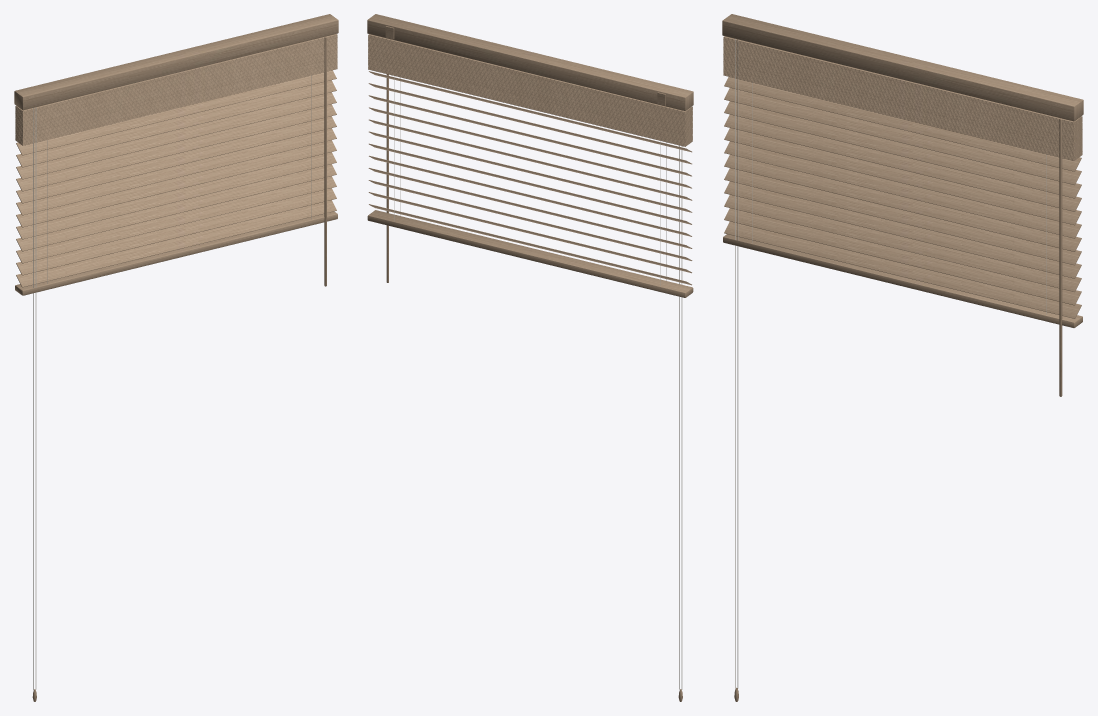
Rendered from veneciana_madera_220_c25.glb.
The picture shows the model from 3 angles, left to right: view 1: azimuth 30°, elevation 25°; view 2: azimuth 150°, elevation 25°; view 3: azimuth 330°, elevation 25°; orthographic projection. The views are drawn at different scales.
Parts seen in each view (by area): view 1: veneciana_madera_220_c25; view 2: veneciana_madera_220_c25; view 3: veneciana_madera_220_c25.
Part boxes in pixels (<box>): veneciana_madera_220_c25: <box>14,14,338,701</box>; veneciana_madera_220_c25: <box>367,14,693,701</box>; veneciana_madera_220_c25: <box>722,14,1083,701</box>.
Size of the model in its own units: 1.2 by 2.2 by 0.0639.
2 materials, 1 textured.
